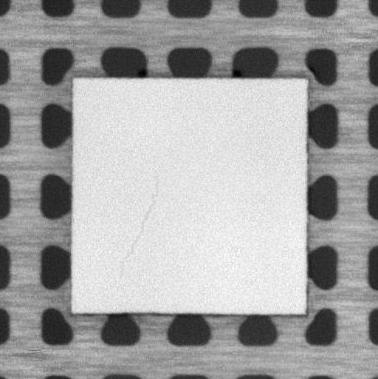DIE_CRACK: (119, 170, 164, 272)
